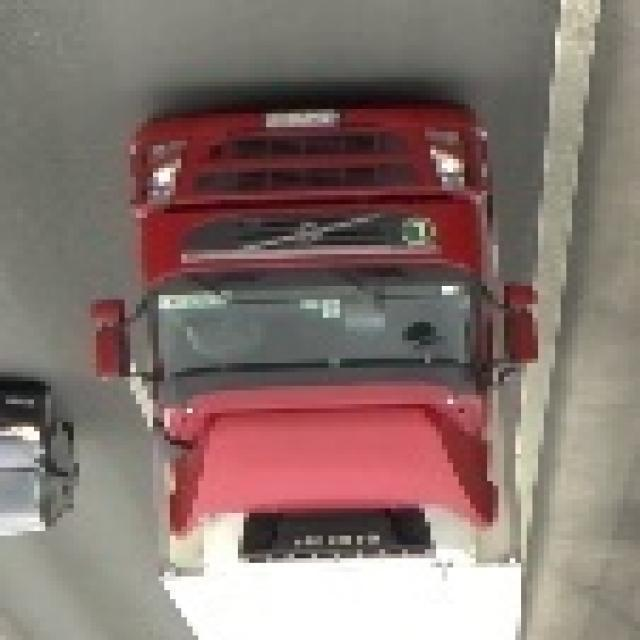Truck: (79, 100, 538, 640)
